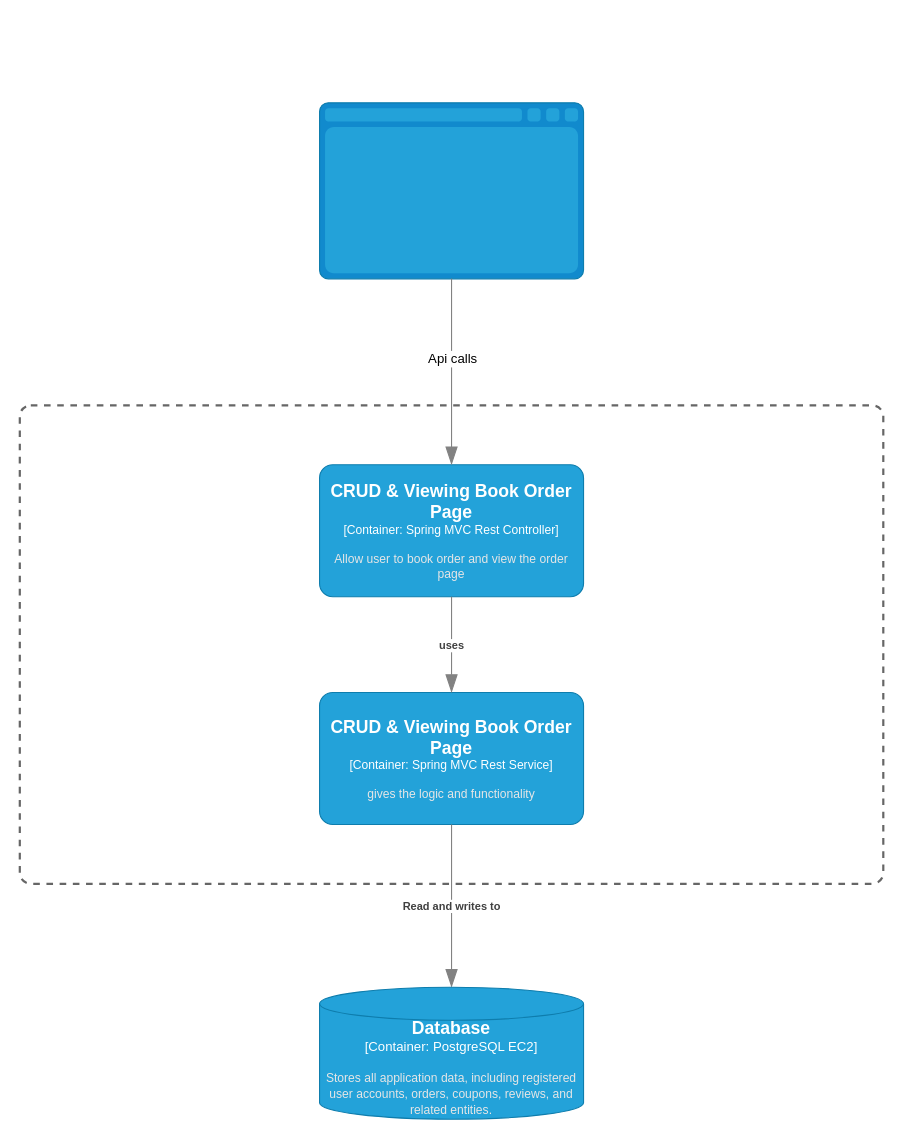
Image size: 903x1139. Some labels were removed from this diagram. The box of each missing label's shape, as (x1, y1, x2, y2) in pixels:
API Application [Container]: (18, 404, 884, 884)
Frontend Page [Container: HTML,CSS,JS] Visual of the website to ease use: (318, 102, 584, 279)
